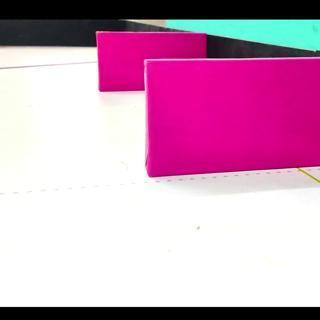xparking: (150, 62, 318, 178), (99, 34, 144, 92)
